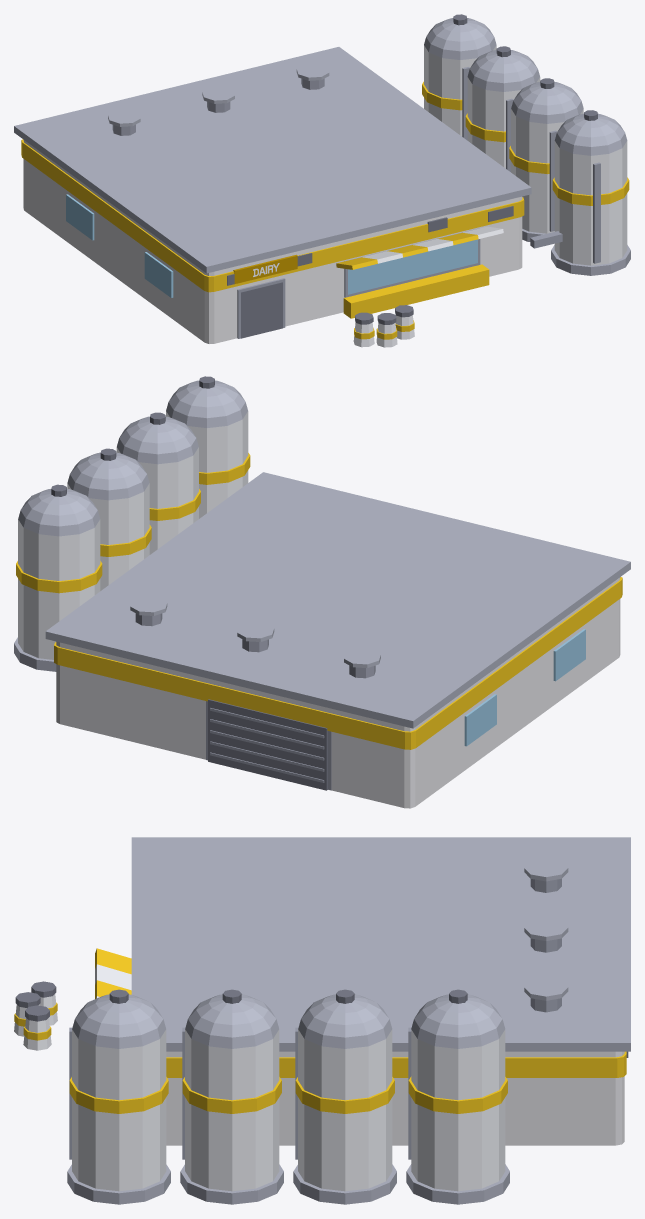
File: dairy-2x2-t4-tone-a.glb
The picture shows the model from 3 angles, top to bottom: view 1: azimuth 30°, elevation 25°; view 2: azimuth 150°, elevation 25°; view 3: azimuth 270°, elevation 25°; orthographic projection. The views are drawn at different scales.
Visible parts, largest first — view 1: dairy-2x2-t4-tone-a; view 2: dairy-2x2-t4-tone-a; view 3: dairy-2x2-t4-tone-a.
Boxes of the visible parts, <box> form: dairy-2x2-t4-tone-a: <box>14,14,630,347</box>; dairy-2x2-t4-tone-a: <box>14,376,630,808</box>; dairy-2x2-t4-tone-a: <box>14,837,630,1204</box>.
Bounding box in the file's own units: 1.98 × 0.665 × 1.97.
1 material, 1 textured.
